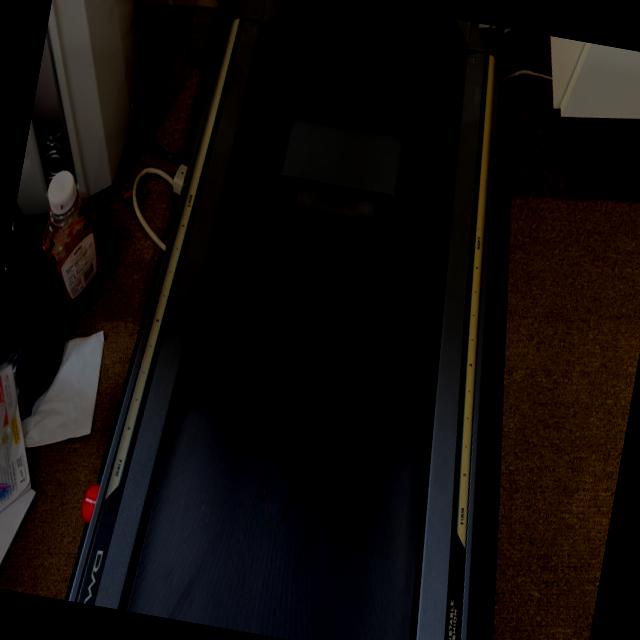Trash: (276, 112, 408, 226)
